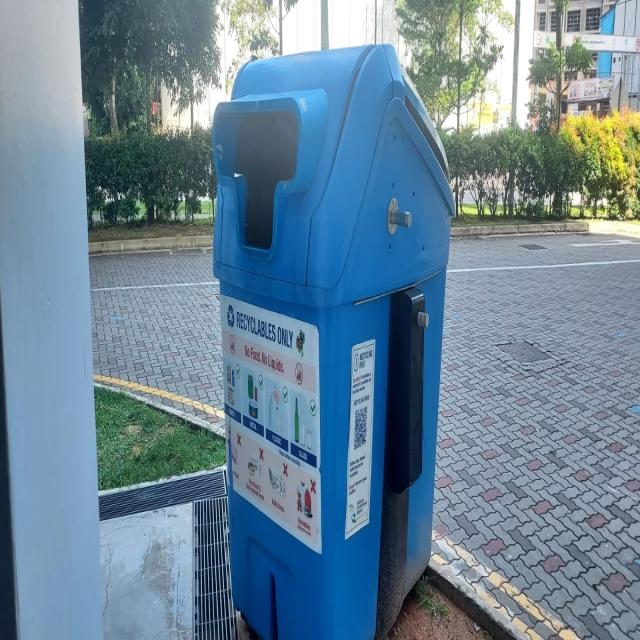bin_empty: (212, 39, 438, 639)
